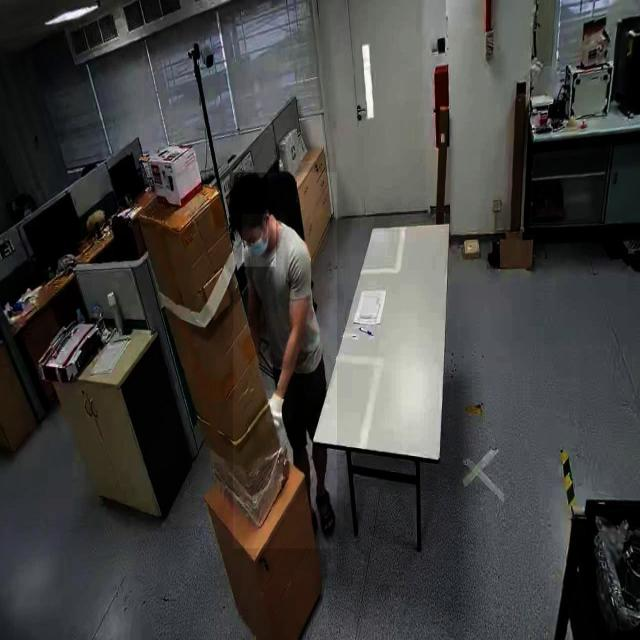face_mask: (242, 214, 276, 267)
hand_glove: (266, 390, 292, 423)
head_nohelmet: (229, 172, 268, 212)
person: (233, 172, 337, 550)
